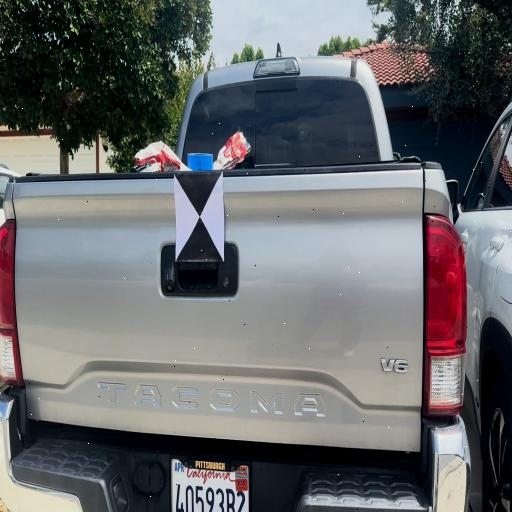target: (174, 174, 224, 261)
